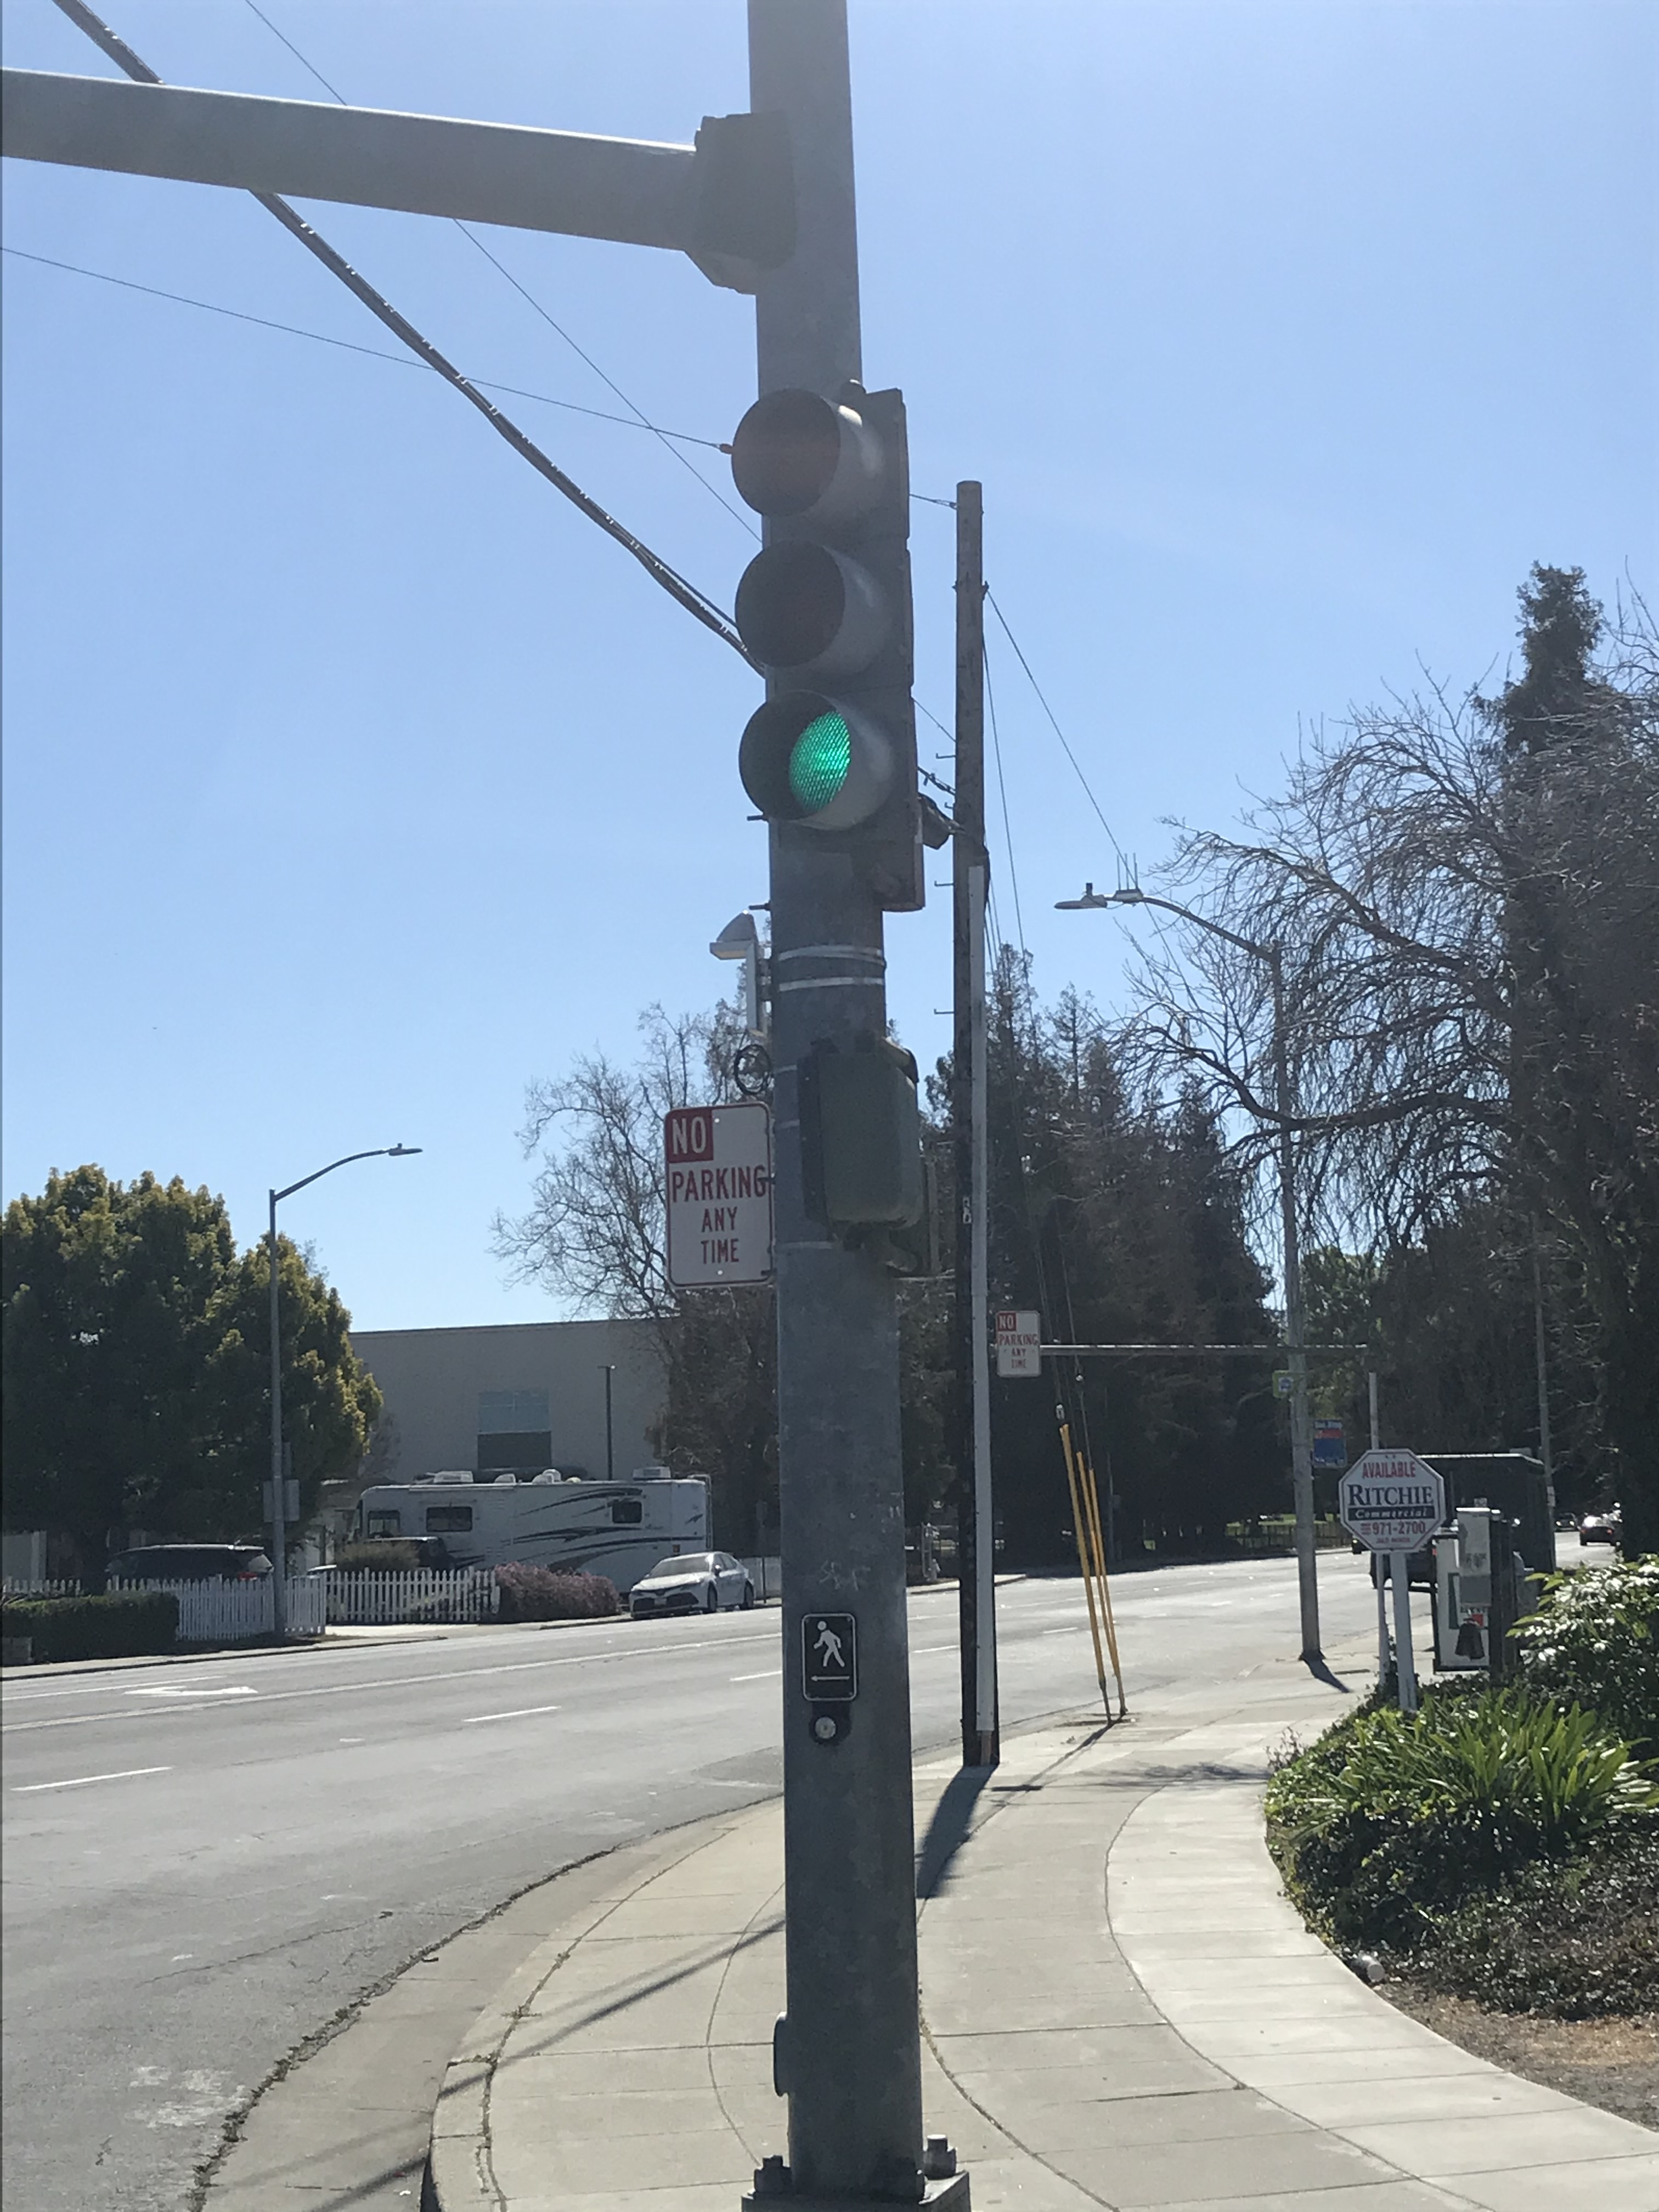green_light: (749, 404, 901, 848)
